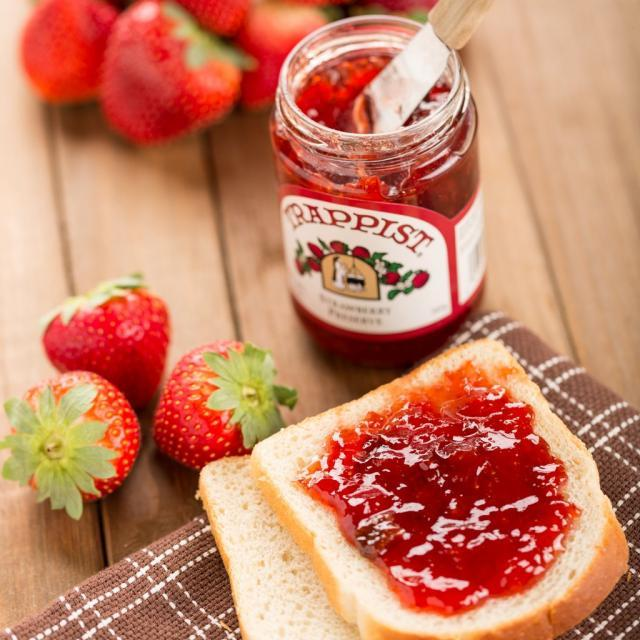Spread: (287, 370, 578, 616)
